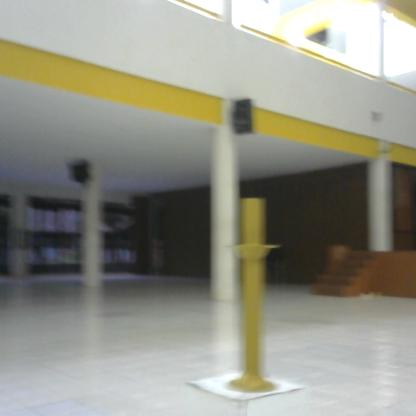pole: (218, 193, 292, 399)
